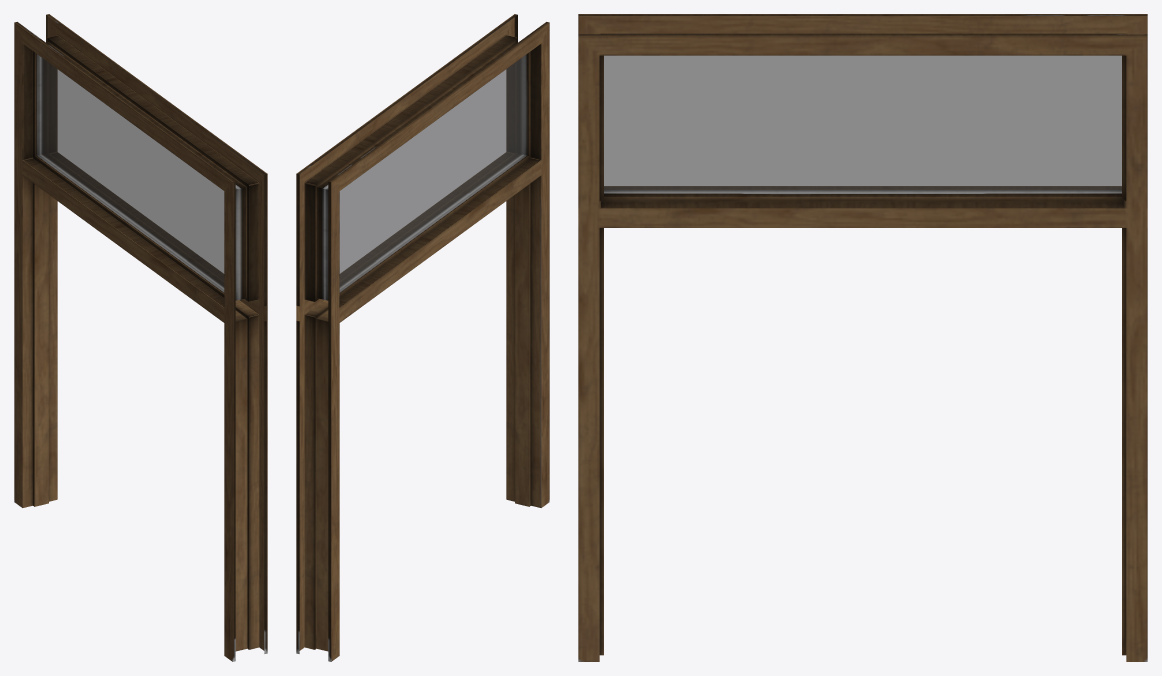
Rendered from Double Door Frame B.fbx.
The picture shows the model from 3 angles, left to right: view 1: azimuth 30°, elevation 25°; view 2: azimuth 150°, elevation 25°; view 3: azimuth 270°, elevation 25°; orthographic projection. The views are drawn at different scales.
Visible parts, largest first — view 1: Double_Door_Frame_B; view 2: Double_Door_Frame_B; view 3: Double_Door_Frame_B.
Part boxes in pixels (bbox=[...]): Double_Door_Frame_B: bbox=[14, 14, 267, 661]; Double_Door_Frame_B: bbox=[296, 14, 549, 661]; Double_Door_Frame_B: bbox=[578, 14, 1147, 661].
Size of the model in its own units: 24.37 by 320 by 264.
